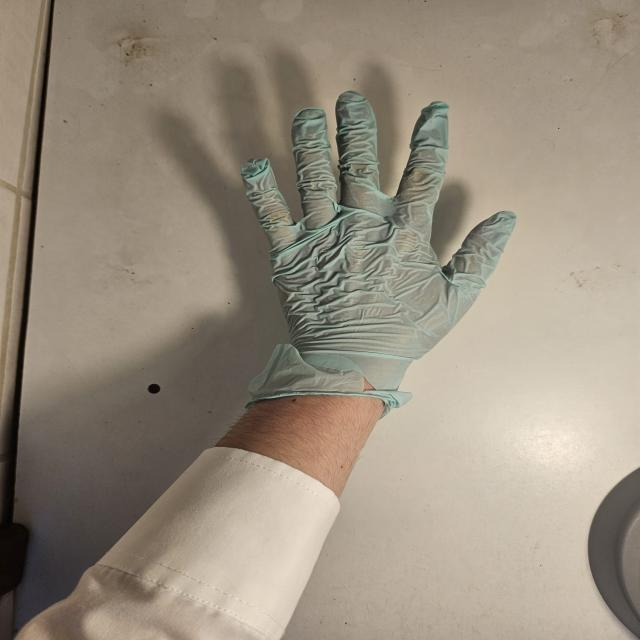gloves_damaged: (237, 88, 518, 420)
